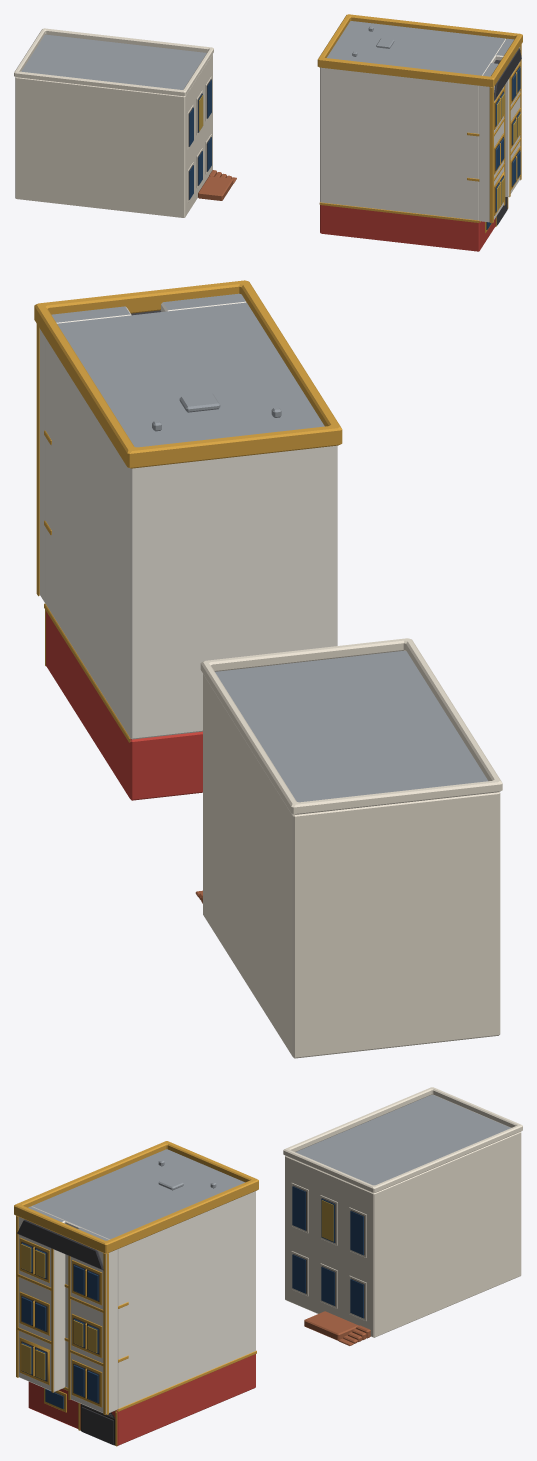
Rendered from 132-south-park.optimized.glb.
3 views of the same model, one above another, from view 1: azimuth 30°, elevation 25°; view 2: azimuth 150°, elevation 25°; view 3: azimuth 270°, elevation 25° (orthographic). The views are drawn at different scales.
Parts seen in each view (by area): view 1: grp_Toy_cream_Toy_steel, rear_body, grp_Toy_mustard, front_base, grp_Toy_sand, grp_Toy_glass, grp_Toy_ink, grp_Toy_rust, grp_Toy_gold_Glow, grp_Toy_roofd; view 2: rear_body, grp_Toy_cream_Toy_steel, grp_Toy_mustard, front_base, grp_Toy_sand; view 3: rear_body, grp_Toy_cream_Toy_steel, grp_Toy_mustard, front_base, grp_Toy_sand, grp_Toy_glass, grp_Toy_roofd, grp_Toy_gold_Glow, grp_Toy_ink, grp_Toy_rust.
Part boxes in pixels (x1,y1,x2,y2): grp_Toy_cream_Toy_steel: (320,21,520,222); rear_body: (15,34,212,217); grp_Toy_mustard: (317,14,522,233); front_base: (320,205,495,251); grp_Toy_sand: (14,28,213,202); grp_Toy_glass: (189,67,520,229); grp_Toy_ink: (188,66,520,229); grp_Toy_rust: (198,170,236,200); grp_Toy_gold_Glow: (199,93,521,210); grp_Toy_roofd: (494,48,521,225); rear_body: (203,650,500,1058); grp_Toy_cream_Toy_steel: (39,293,337,739); grp_Toy_mustard: (34,280,342,742); front_base: (46,611,202,800); grp_Toy_sand: (200,638,502,814); rear_body: (285,1095,521,1337); grp_Toy_cream_Toy_steel: (18,1149,255,1414); grp_Toy_mustard: (14,1141,258,1446); front_base: (28,1354,255,1445); grp_Toy_sand: (283,1087,522,1320); grp_Toy_glass: (21,1186,363,1408); grp_Toy_roofd: (17,1219,113,1444); grp_Toy_gold_Glow: (21,1200,333,1380); grp_Toy_ink: (21,1185,364,1445); grp_Toy_rust: (304,1311,370,1345).
Size of the model in its own units: 26.68 by 12.07 by 26.71.
